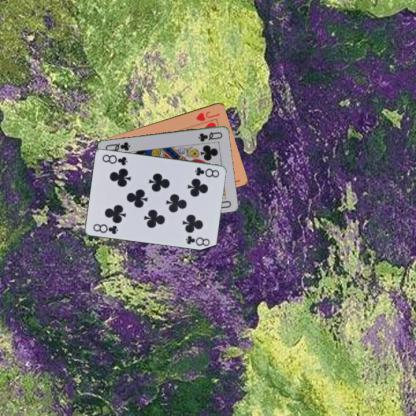8c: (192, 164, 221, 179), (90, 221, 119, 235)
Jh: (194, 108, 221, 122)
Qc: (196, 129, 223, 143)
